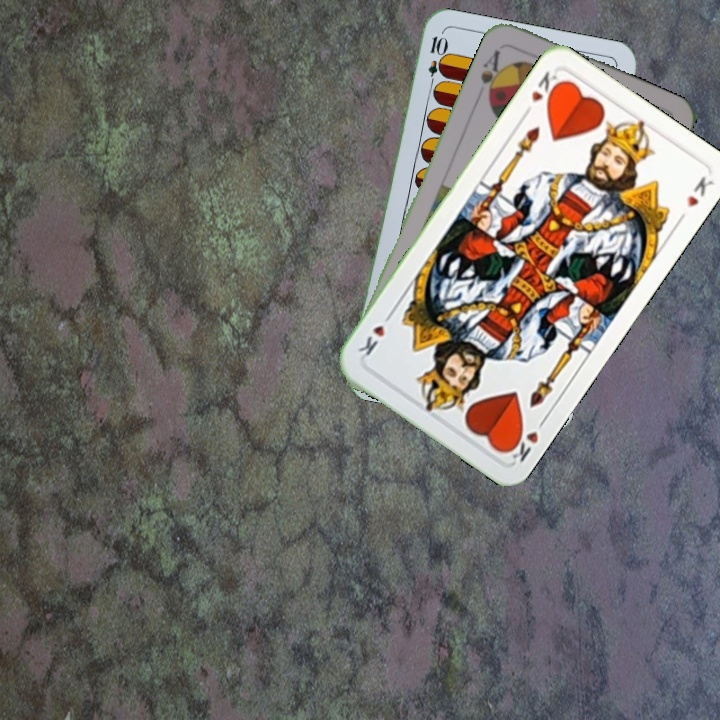E10: (423, 32, 447, 91)
HK: (501, 413, 550, 465), (519, 67, 566, 120)
SA: (476, 45, 508, 103)
